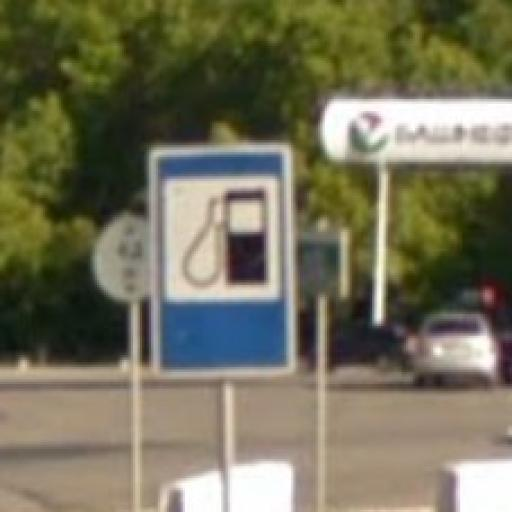traffic_sign: (150, 144, 299, 376)
